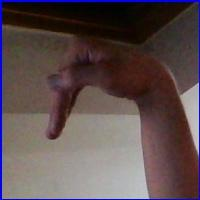del: (48, 32, 167, 148)
